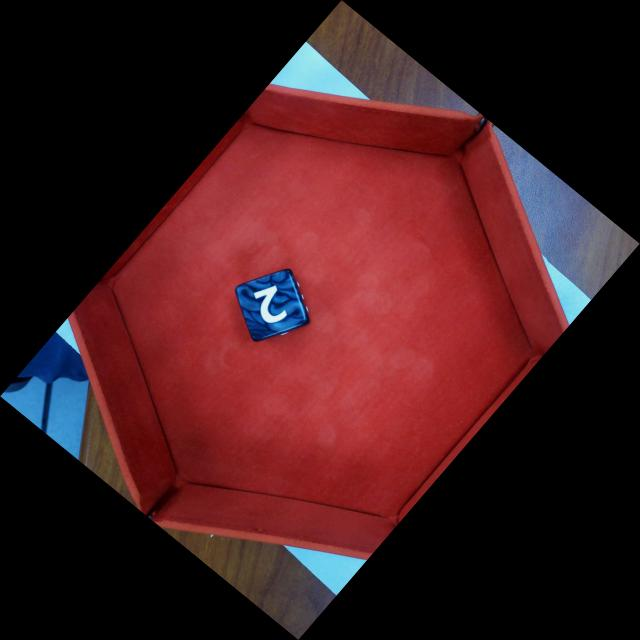dice: (239, 267, 307, 342)
